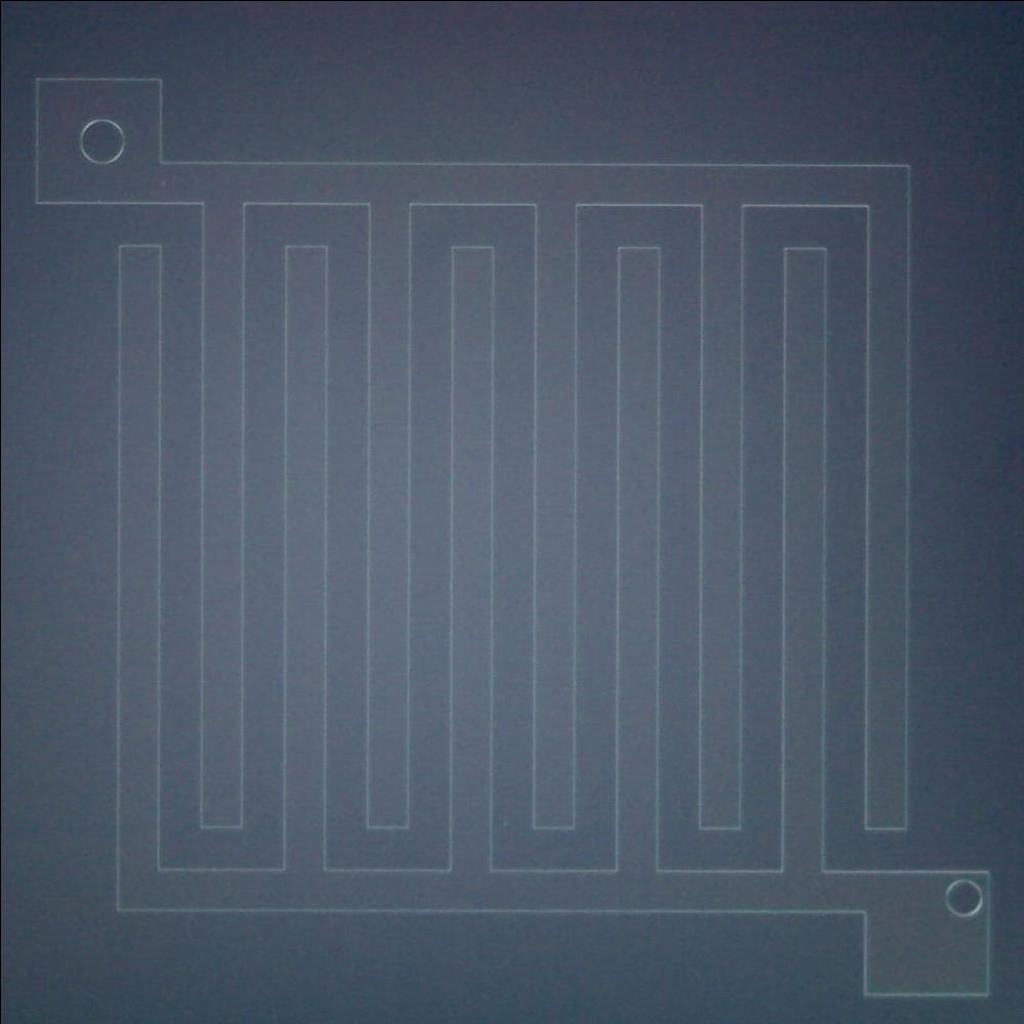circle: (77, 115, 130, 165), (938, 875, 986, 922)
